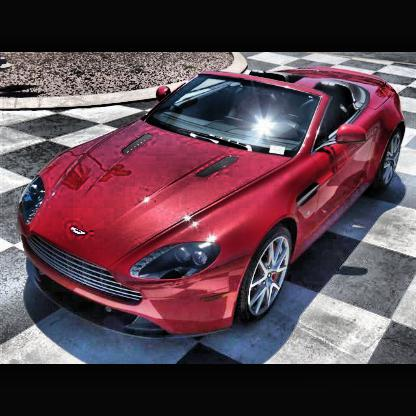Aston Martin V8 Vantage Convertible 2012: (19, 67, 408, 334)
